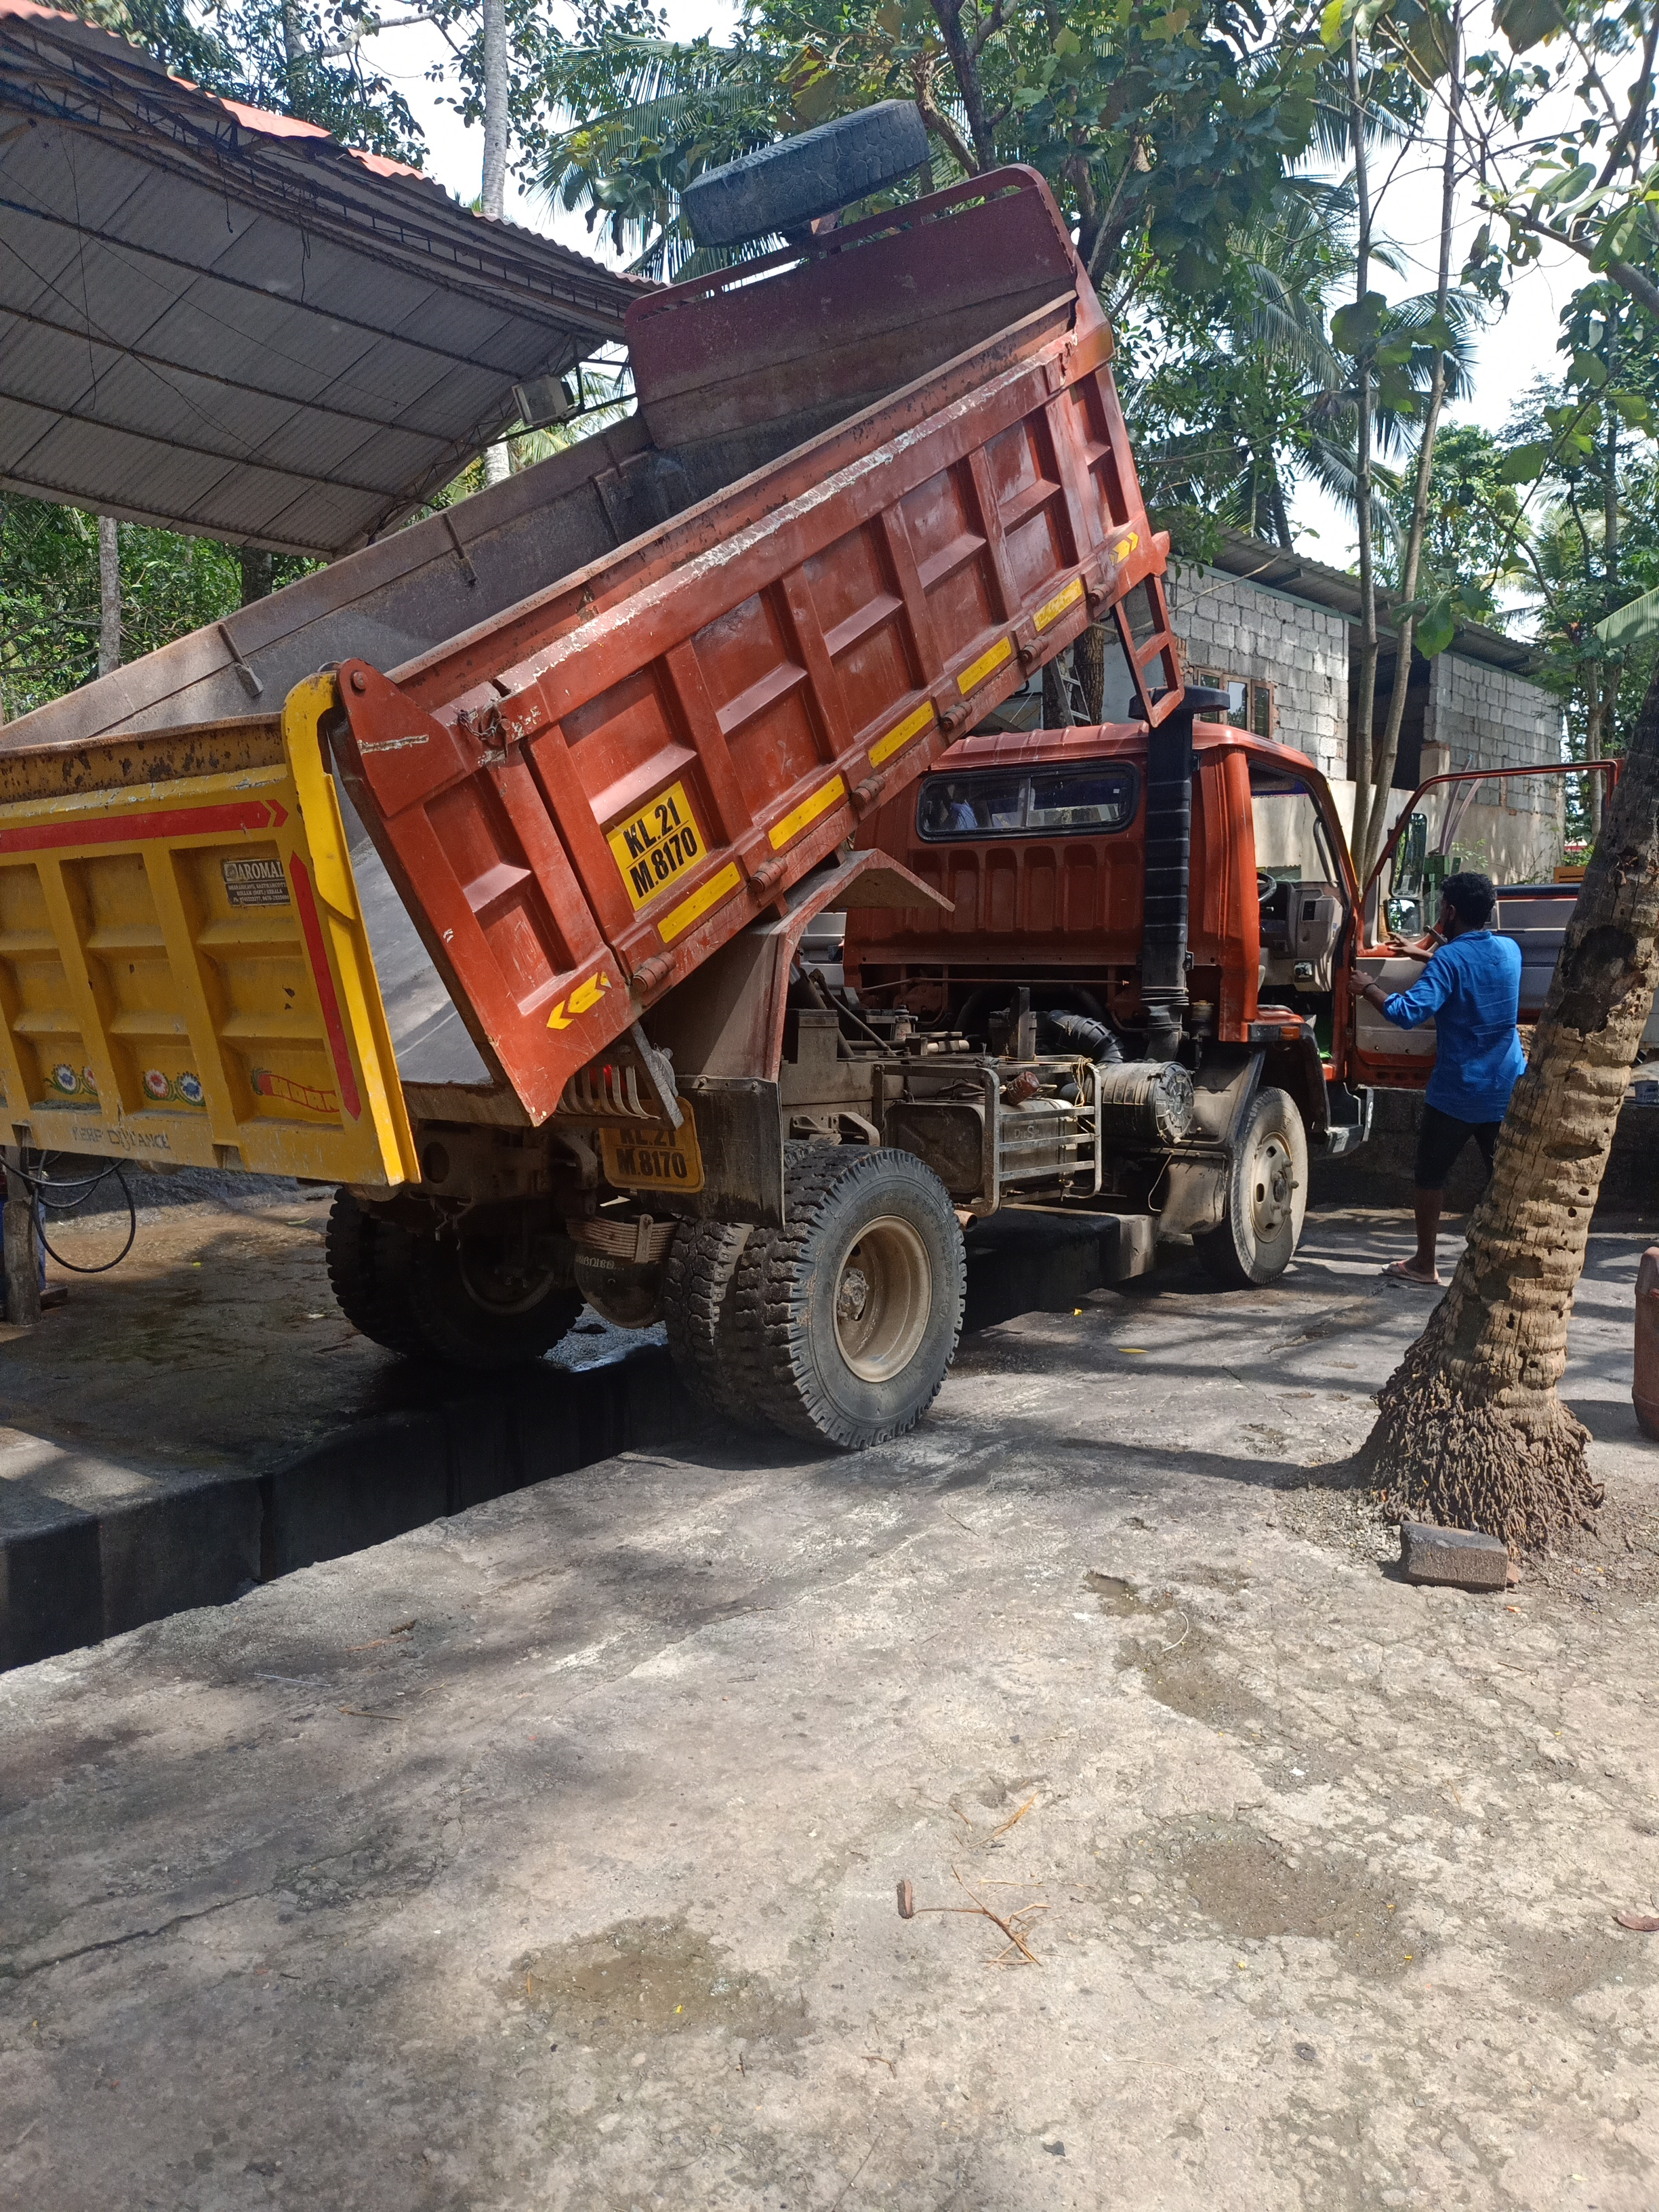truck: (0, 96, 1626, 1461)
